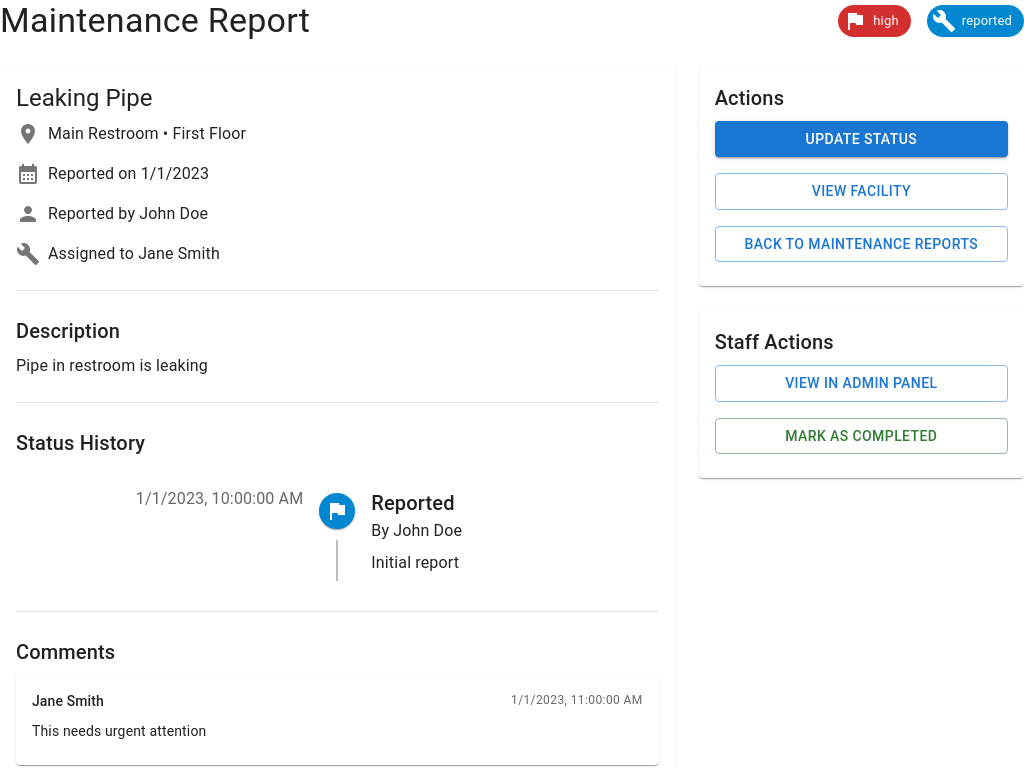
MaintenanceDetailsPage › opens status dialog with completed status when Mark as Completed is clicked
The width and height of the screenshot is (1024, 768).
Click the button "Mark as Completed" at point(861, 436), box left=715, top=418, right=1008, bottom=454
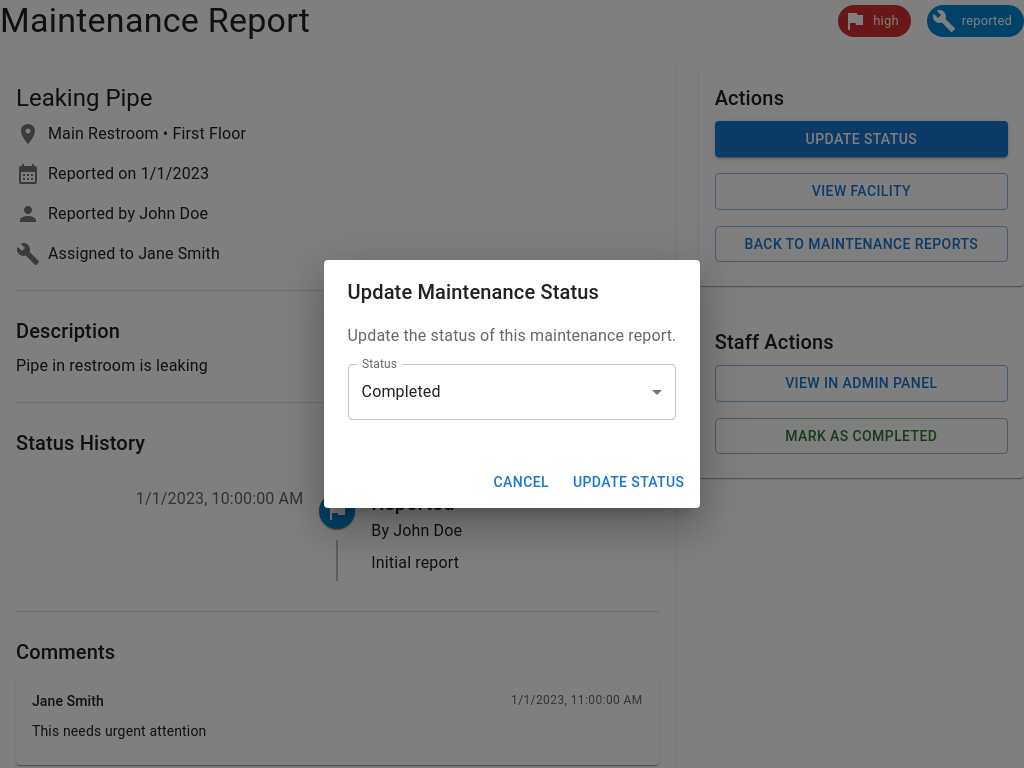
Result: the heading "Update Maintenance Status" is shown at left=348, top=280, right=599, bottom=304
